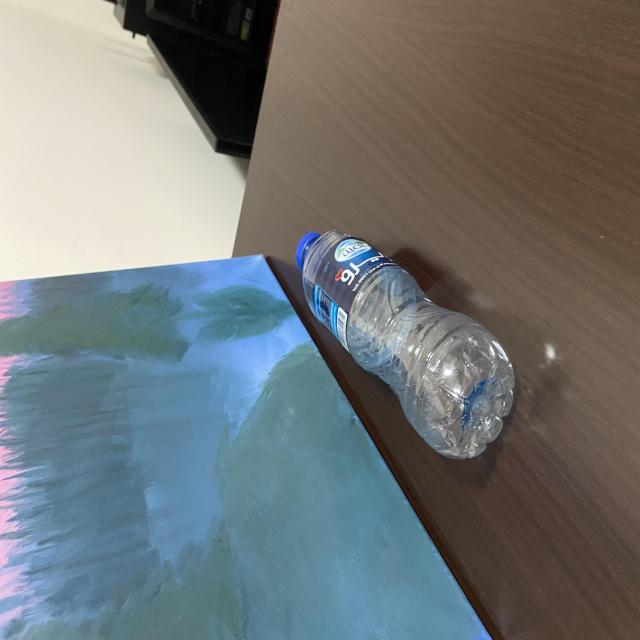plastic: (293, 222, 518, 468)
